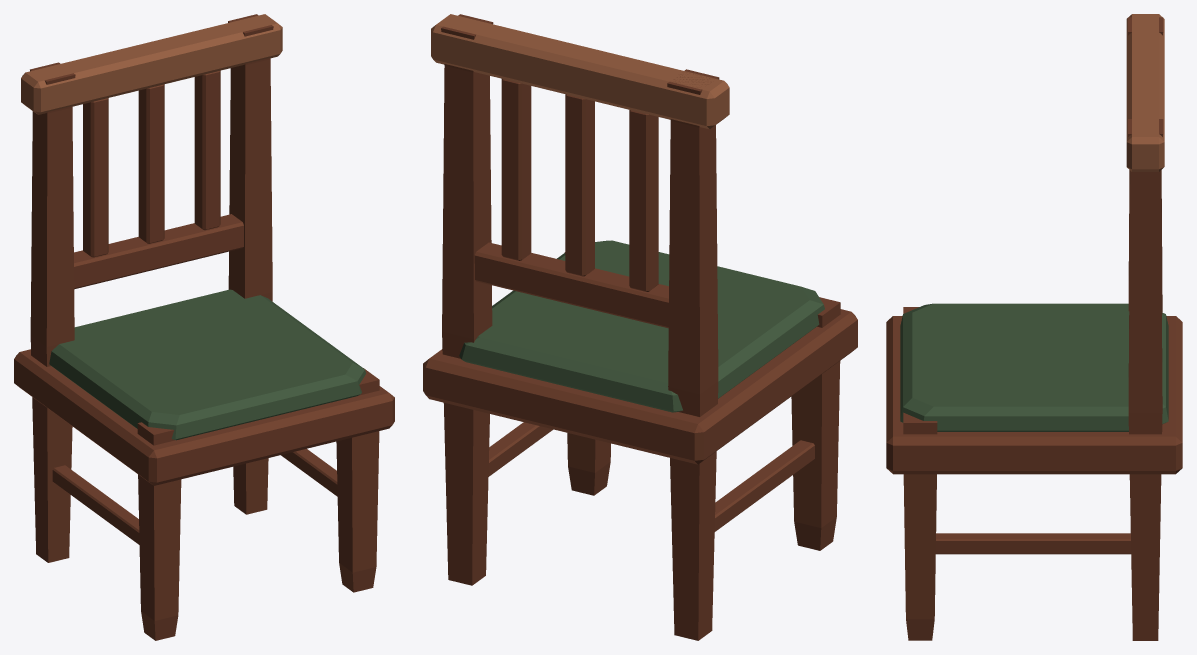
Rendered from chair_02.glb.
3 renders of one model, left to right at view 1: azimuth 30°, elevation 25°; view 2: azimuth 150°, elevation 25°; view 3: azimuth 270°, elevation 25°, orthographic. The views are drawn at different scales.
Parts seen in each view (by area): view 1: Seat, SeatFrame, BackPost, BackTopRail, BackPost_001, FrontLeg, FrontLeg_001, BackLowerRail, BackSlat_2, BackSlat_1, BackSlat_0, Stretcher (+1 smaller); view 2: Seat, BackPost, SeatFrame, BackPost_001, BackTopRail, FrontLeg, BackLowerRail, BackSlat_2, BackSlat_1, BackSlat_0, Stretcher, FrontLeg_001 (+1 smaller); view 3: Seat, SeatFrame, BackPost_001, BackTopRail, FrontLeg_001, Stretcher_001, BackPost.
Part boxes in pixels (bbox=[...]): Seat: bbox=[49, 289, 365, 440]; SeatFrame: bbox=[14, 349, 394, 485]; BackPost: bbox=[30, 62, 75, 562]; BackTopRail: bbox=[21, 14, 282, 114]; BackPost_001: bbox=[228, 14, 273, 514]; FrontLeg: bbox=[137, 422, 181, 640]; FrontLeg_001: bbox=[336, 368, 379, 592]; BackLowerRail: bbox=[74, 214, 243, 289]; BackSlat_2: bbox=[194, 70, 220, 230]; BackSlat_1: bbox=[138, 84, 164, 243]; BackSlat_0: bbox=[83, 98, 108, 257]; Stretcher: bbox=[52, 465, 139, 544]; Seat: bbox=[459, 240, 824, 412]; BackPost: bbox=[667, 69, 719, 640]; SeatFrame: bbox=[423, 309, 857, 464]; BackPost_001: bbox=[441, 14, 493, 585]; BackTopRail: bbox=[431, 14, 729, 129]; FrontLeg: bbox=[791, 297, 840, 550]; BackLowerRail: bbox=[474, 242, 668, 328]; BackSlat_2: bbox=[501, 79, 531, 260]; BackSlat_1: bbox=[565, 94, 594, 276]; BackSlat_0: bbox=[629, 110, 658, 291]; Stretcher: bbox=[714, 440, 814, 531]; FrontLeg_001: bbox=[564, 252, 610, 495]; Seat: bbox=[900, 303, 1168, 431]; SeatFrame: bbox=[886, 316, 1182, 474]; BackPost_001: bbox=[1128, 119, 1163, 640]; BackTopRail: bbox=[1126, 14, 1164, 171]; FrontLeg_001: bbox=[903, 412, 937, 640]; Stretcher_001: bbox=[935, 533, 1131, 554]; BackPost: bbox=[1128, 17, 1163, 314].
Size of the model in its own units: 0.5488 by 1.02 by 0.5376.
